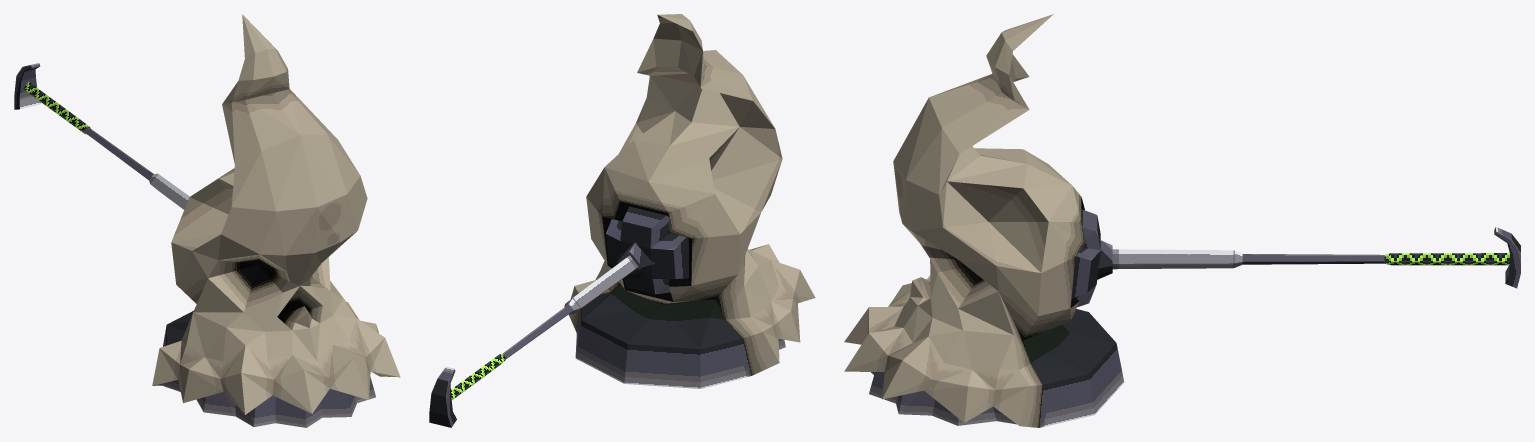
The model's file is skullhammer.obj.
3 views of the same model, side by side, from view 1: azimuth 30°, elevation 25°; view 2: azimuth 150°, elevation 25°; view 3: azimuth 270°, elevation 25° (orthographic). The views are drawn at different scales.
Parts seen in each view (by area): view 1: n0b0_n0b0.001; view 2: n0b0_n0b0.001; view 3: n0b0_n0b0.001.
Part boxes in pixels (box(x1,y1,x2,y2)): n0b0_n0b0.001: box(14, 14, 400, 427); n0b0_n0b0.001: box(429, 14, 815, 427); n0b0_n0b0.001: box(844, 14, 1520, 427).
Bounding box in the file's own units: 0.7124 × 1.11 × 1.84.
1 material, 1 textured.
